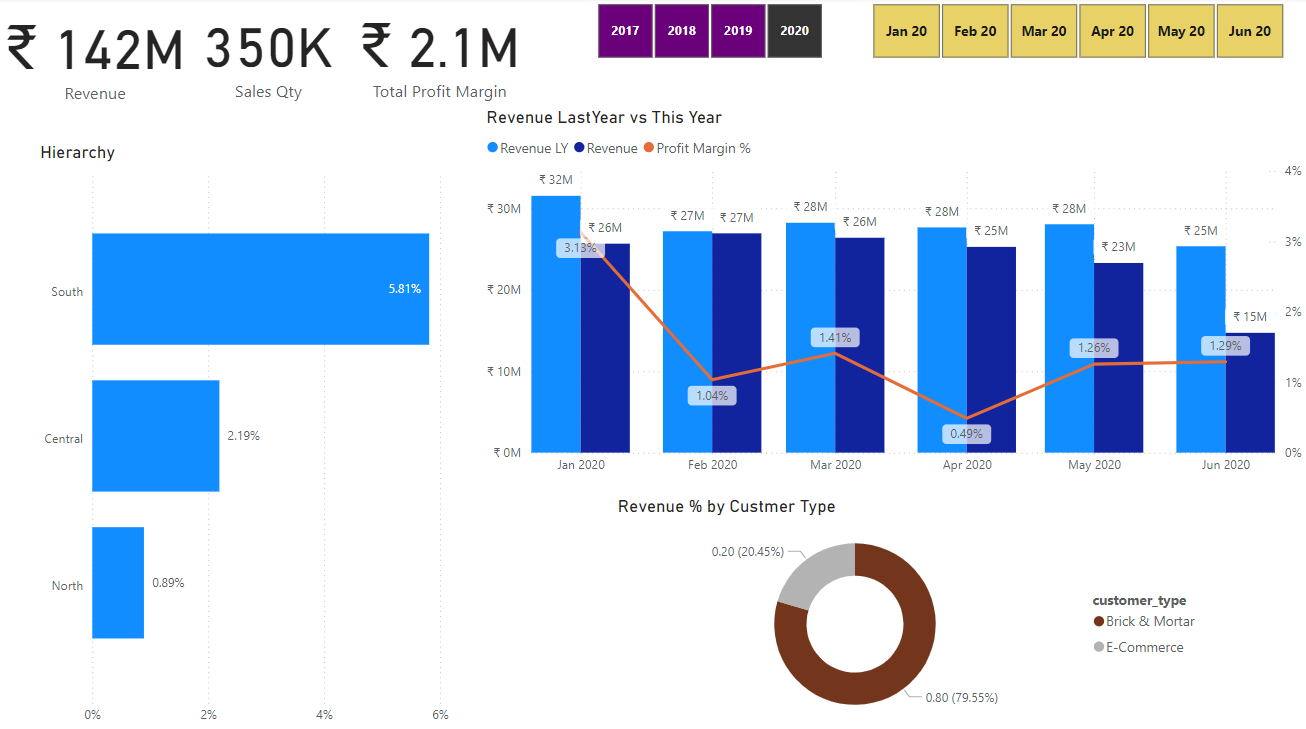

The page's visual inventory and layout, read from the dashboard file:
{"tool":"powerbi","page":{"name":"Performance Analysis","canvas":[1280,720],"ordinal":2},"visuals":[{"type":"card","fields":{"Values":["Base Measures.revenue"]},"box":[0,0,188.3,110.1],"z":0},{"type":"card","fields":{"Values":["Base Measures.Sum Sales Qty"]},"box":[188,0,150.9,107],"z":1000},{"type":"slicer","fields":{"Values":["sales date.year"]},"box":[559.9,0,269,65.9],"z":2000},{"type":"slicer","fields":{"Values":["sales date.cy_date"]},"box":[829.1,0,451.2,66],"z":3000},{"type":"card","fields":{"Values":["Base Measures.Total profit Margin"]},"box":[338.9,0,185.2,107],"z":4000},{"type":"barChart","title":"Hierarchy","fields":{"Category":["sales markets.zone","sales markets.markets_name","sales customers.custmer_name","sales products.product_code"],"Y":["Base Measures.Profit Margin %"]},"box":[35.5,141.8,436.6,578.4],"z":5000},{"type":"lineClusteredColumnComboChart","title":"Revenue LastYear vs This Year","fields":{"Y":["Base Measures.Revenue LY","Base Measures.Revenue"],"Category":["sales date.cy_date"],"Y2":["Base Measures.Profit Margin %"]},"box":[472,107.6,808.3,368.1],"z":7000},{"type":"donutChart","title":"Revenue % by Custmer Type","fields":{"Category":["sales customers.customer_type"],"Y":["Base Measures.Revenue Contribution %"]},"box":[600.4,487.9,583.3,232.3],"z":8000}]}

Visuals, with their boxes in screenshot pixels (x1, y1, x2, y2), scaled from the page's 1280x720 canvas onto the 1306x729 screenshot:
card - Base Measures.revenue: <region>0, 0, 192, 111</region>
card - Base Measures.Sum Sales Qty: <region>192, 0, 346, 108</region>
slicer - sales date.year: <region>571, 0, 846, 67</region>
slicer - sales date.cy_date: <region>846, 0, 1305, 67</region>
card - Base Measures.Total profit Margin: <region>346, 0, 535, 108</region>
"Hierarchy" barChart: <region>36, 144, 482, 728</region>
"Revenue LastYear vs This Year" lineClusteredColumnComboChart: <region>482, 109, 1305, 482</region>
"Revenue % by Custmer Type" donutChart: <region>613, 494, 1208, 728</region>
